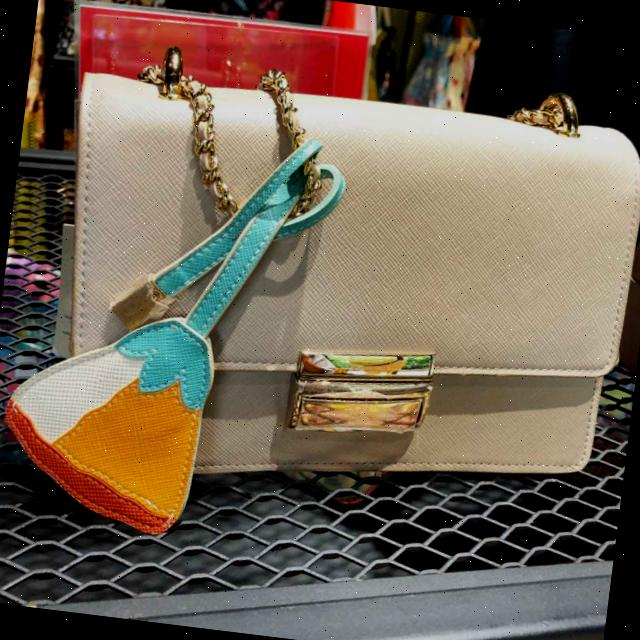Handbag: (35, 50, 640, 524)
